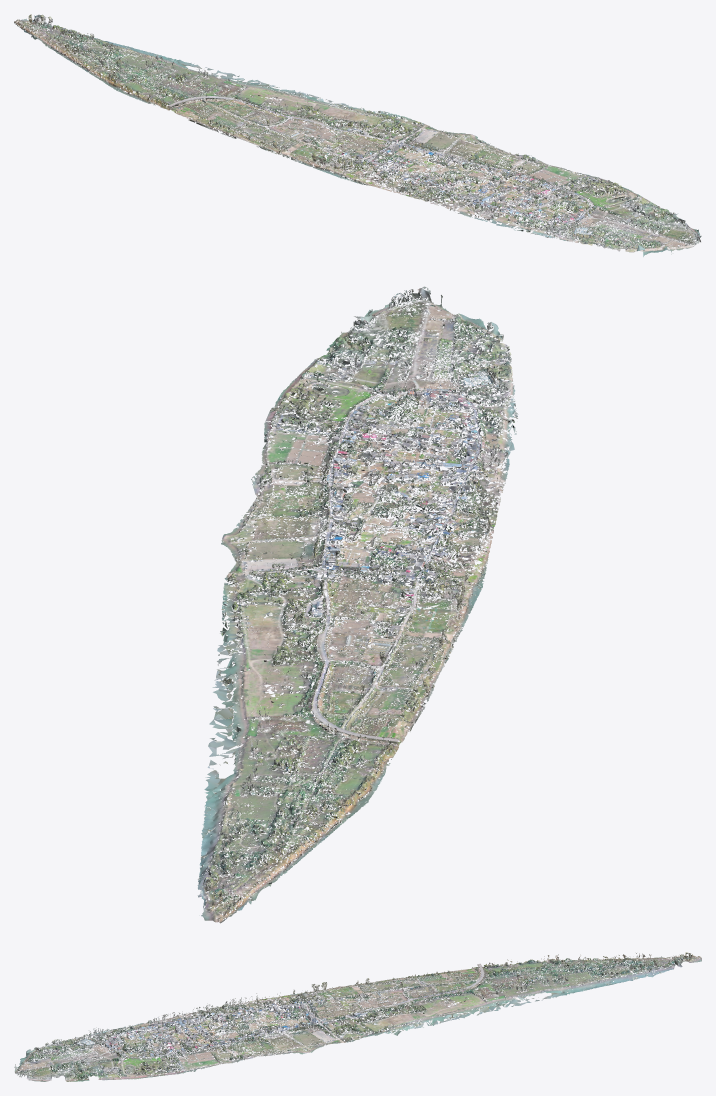
File: ezhou-owner.glb
3 renders of one model, top to bottom at view 1: azimuth 30°, elevation 25°; view 2: azimuth 150°, elevation 25°; view 3: azimuth 270°, elevation 25°, orthographic. The views are drawn at different scales.
Visible parts, largest first — view 1: owner-island-surface; view 2: owner-island-surface; view 3: owner-island-surface.
Part boxes in pixels (<box>): owner-island-surface: <box>14,14,701,256</box>; owner-island-surface: <box>197,286,518,923</box>; owner-island-surface: <box>14,952,701,1081</box>.
Size of the model in its own units: 10.63 by 0.69 by 24.59.
1 material, 1 textured.
